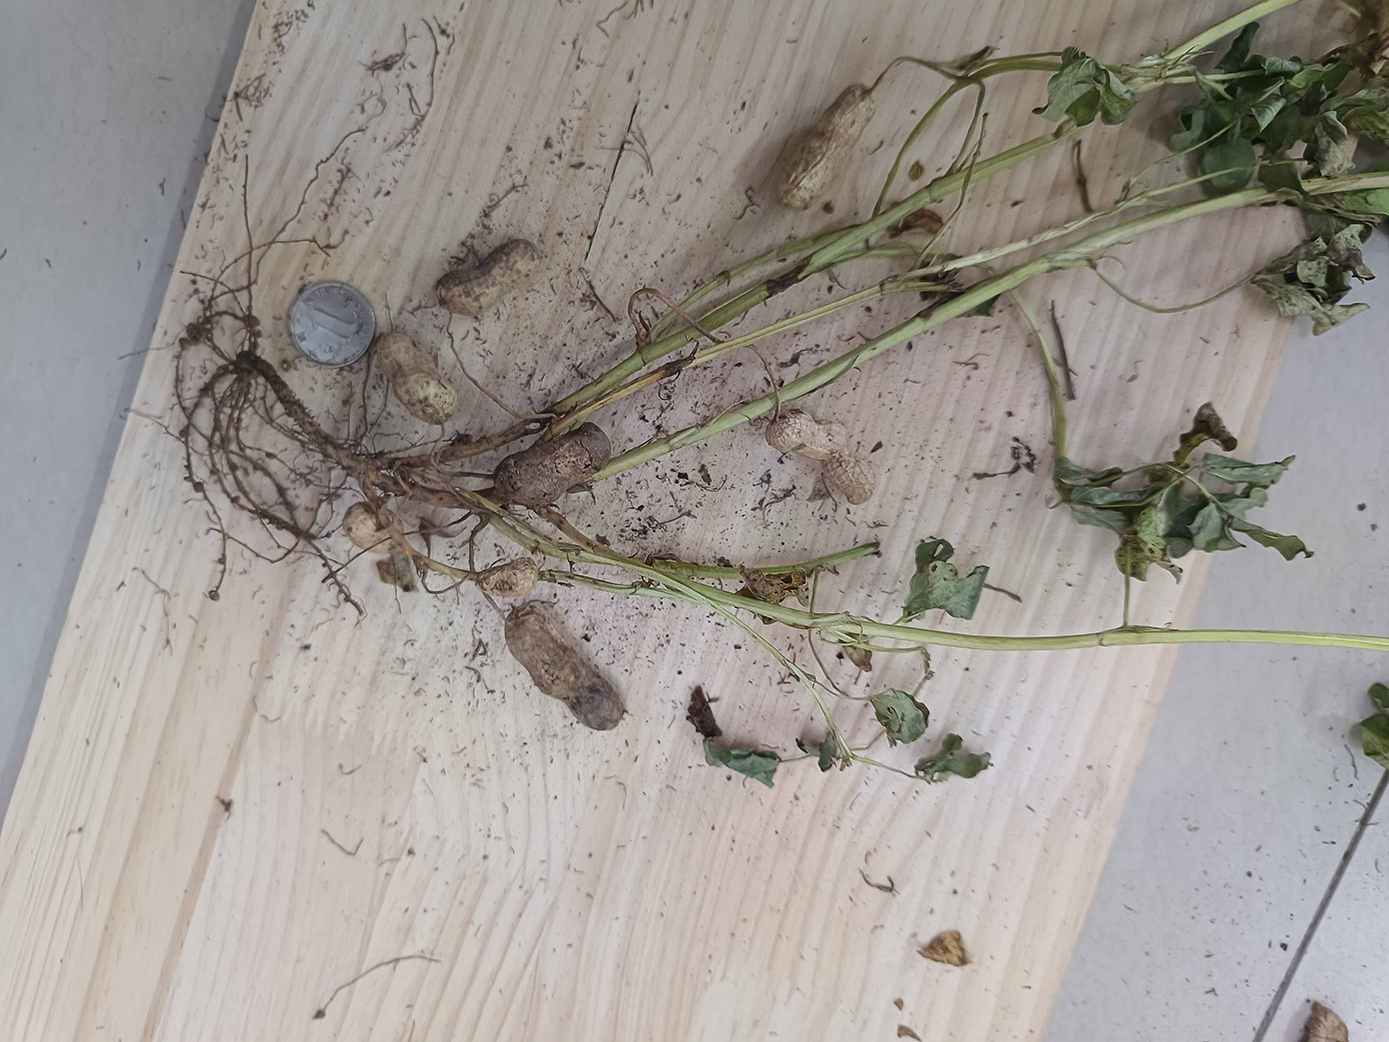h: (775, 84, 880, 212), (767, 412, 875, 503), (438, 241, 541, 316), (374, 333, 460, 422), (342, 503, 404, 553)
l: (503, 605, 626, 729), (496, 422, 613, 508), (474, 557, 541, 597)
